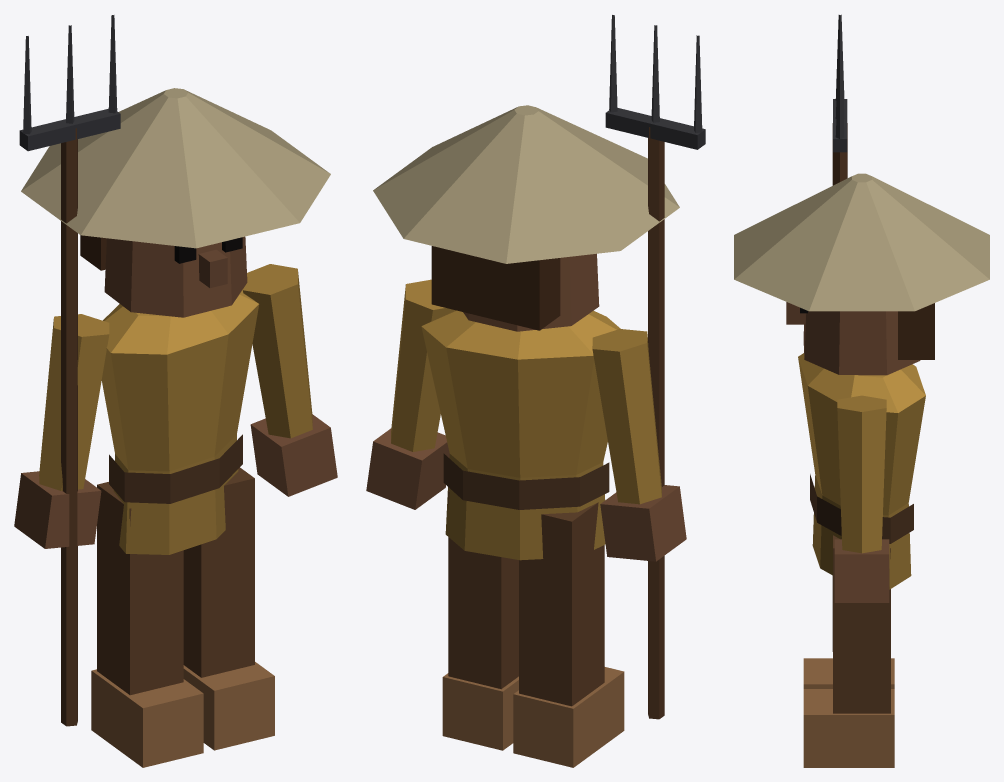
Rendered from peasant.glb.
The picture shows the model from 3 angles, left to right: view 1: azimuth 30°, elevation 25°; view 2: azimuth 150°, elevation 25°; view 3: azimuth 270°, elevation 25°; orthographic projection. The views are drawn at different scales.
Visible parts, largest first — view 1: peasant_head, peasant_torso, peasant_leg_r, peasant_leg_l, peasant_pitchfork, peasant_arm_l, peasant_arm_r; view 2: peasant_head, peasant_torso, peasant_leg_r, peasant_leg_l, peasant_arm_r, peasant_pitchfork, peasant_arm_l; view 3: peasant_head, peasant_torso, peasant_leg_l, peasant_arm_l, peasant_pitchfork, peasant_leg_r.
Part boxes in pixels (left/top/right/bottom): peasant_head: left=21, top=88, right=330, bottom=317; peasant_torso: left=101, top=290, right=259, bottom=554; peasant_leg_r: left=91, top=482, right=203, bottom=767; peasant_leg_l: left=183, top=467, right=274, bottom=750; peasant_pitchfork: left=19, top=15, right=120, bottom=726; peasant_arm_l: left=242, top=264, right=337, bottom=496; peasant_arm_r: left=14, top=314, right=109, bottom=548; peasant_head: left=373, top=105, right=679, bottom=331; peasant_torso: left=421, top=310, right=620, bottom=560; peasant_leg_r: left=513, top=502, right=624, bottom=767; peasant_leg_l: left=442, top=491, right=518, bottom=750; peasant_arm_r: left=592, top=329, right=686, bottom=561; peasant_pitchfork: left=605, top=15, right=705, bottom=719; peasant_arm_l: left=366, top=279, right=454, bottom=509; peasant_head: left=734, top=173, right=989, bottom=375; peasant_torso: left=798, top=353, right=925, bottom=589; peasant_leg_l: left=803, top=535, right=894, bottom=767; peasant_arm_l: left=834, top=395, right=889, bottom=602; peasant_pitchfork: left=832, top=14, right=847, bottom=651; peasant_leg_r: left=803, top=658, right=894, bottom=688.
Size of the model in its own units: 0.8739 by 1.98 by 0.7021.
